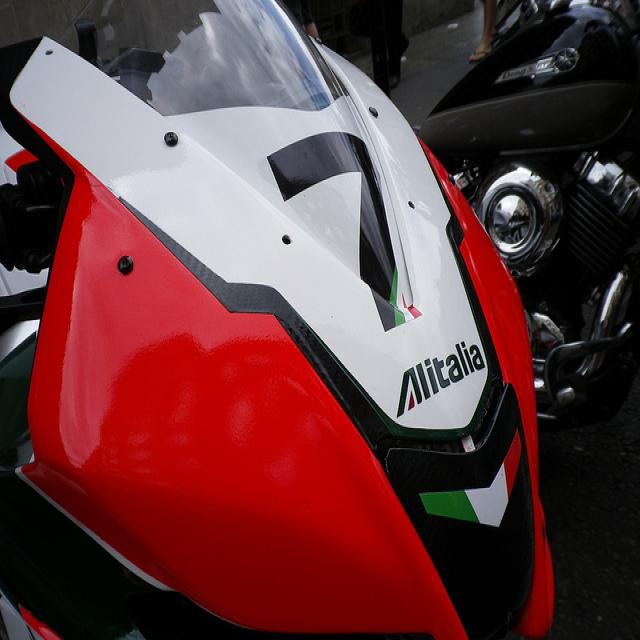motor: (2, 3, 560, 627), (418, 5, 633, 625)
